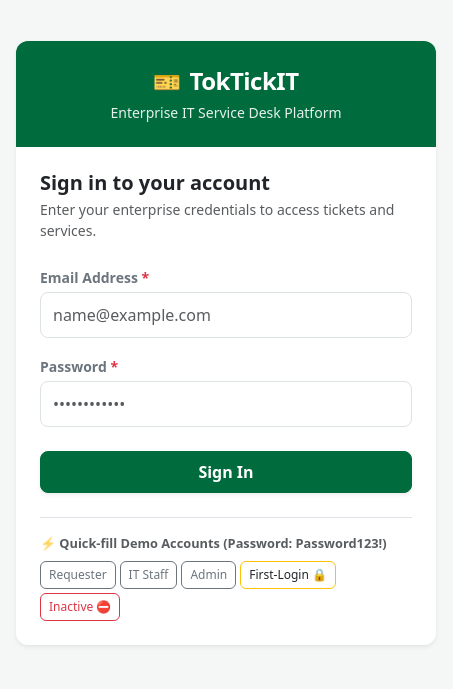
Lab 3 LoginScreen Component (UI-01, BR-01, AC-01, AC-02) › displays inline validation errors when submitted empty
Click the button "Sign In". click: (226, 472)
box: top-left (40, 451), bottom-right (412, 493)
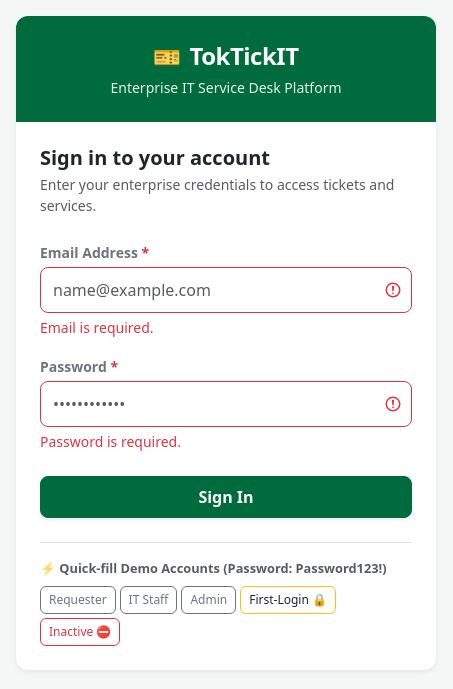
Check: the text "Email is required." is shown, box top-left (40, 318), bottom-right (154, 337)
Check: the text "Password is required." is shown, box top-left (40, 432), bottom-right (181, 451)
